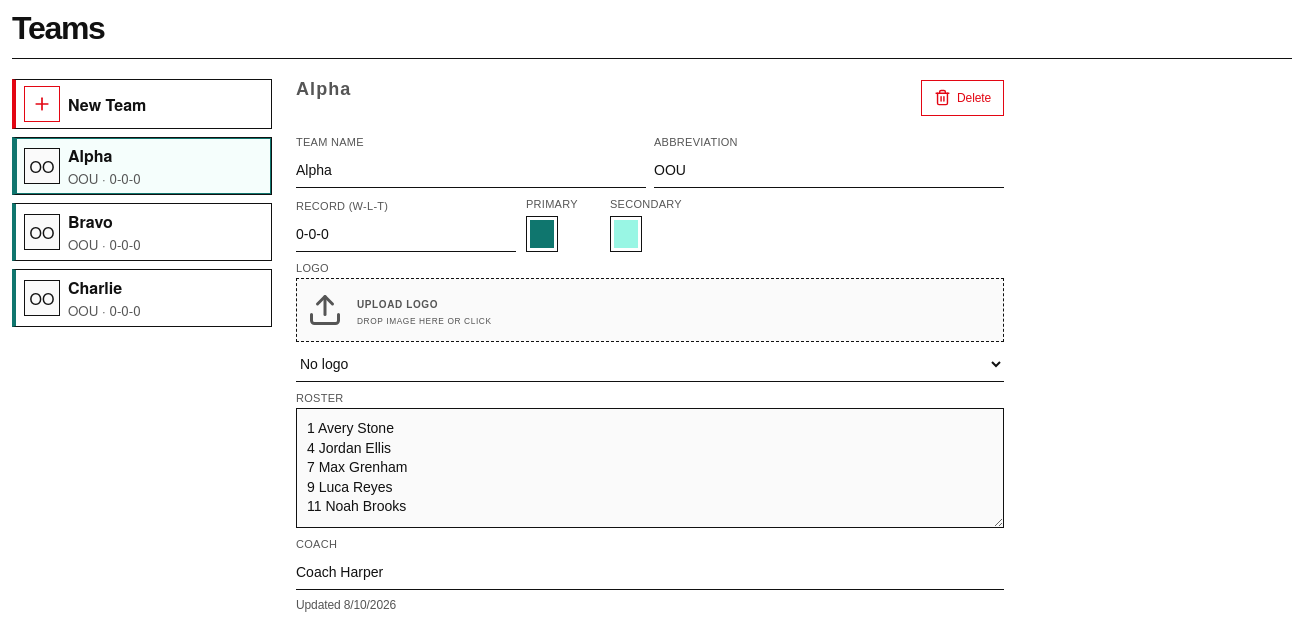
Test: TeamsLibrary concurrency and reconciliation › preserves a newly selected team when an earlier deletion finishes
Expected: the field showing "Alpha" is shown, [296,152,646,188]
Click the button "Delete": (962, 98) [921,80,1004,116]
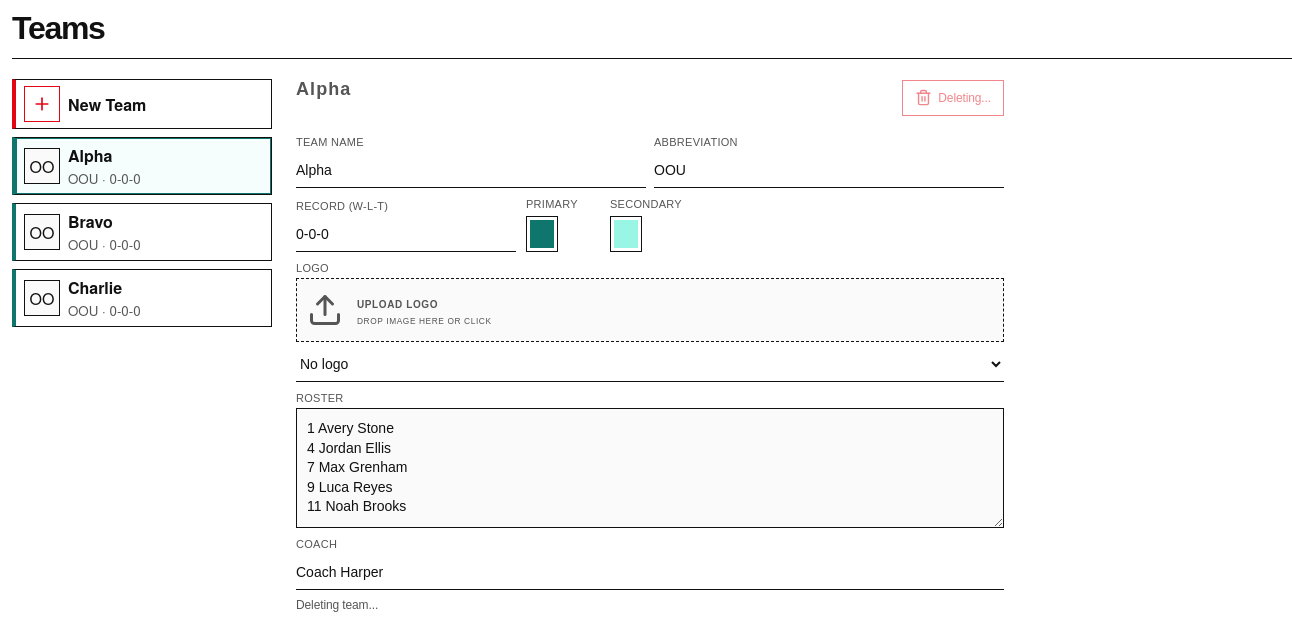
Click the button "OO Charlie OOU · 0-0-0": (142, 298) [12,269,272,327]
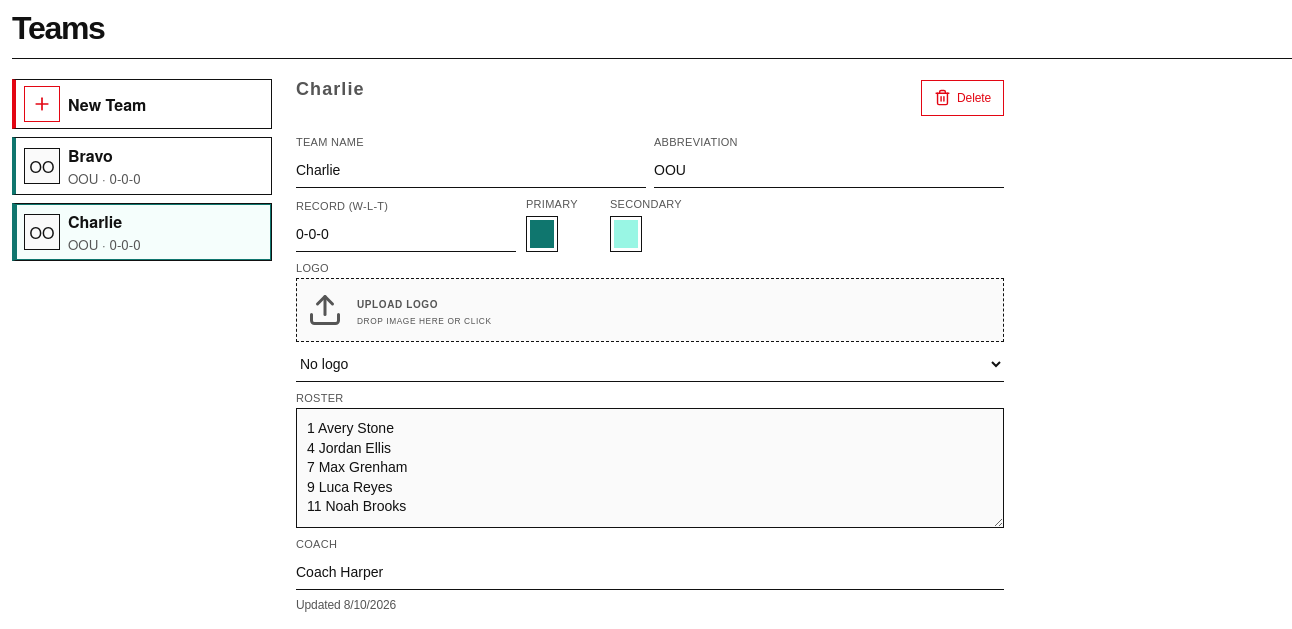
Now the field showing "Charlie" is shown, box [296,152,646,188]
